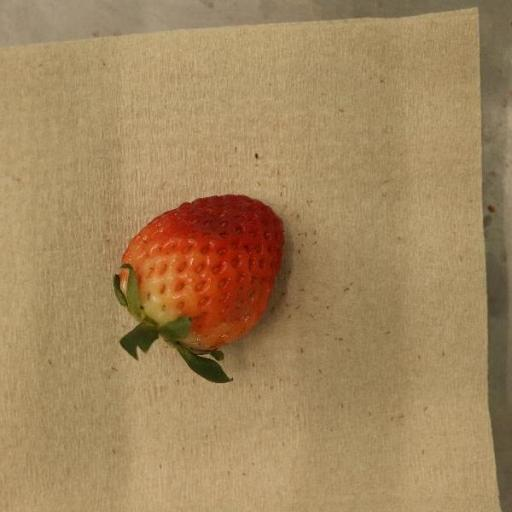Strawberry: (113, 195, 285, 385)
